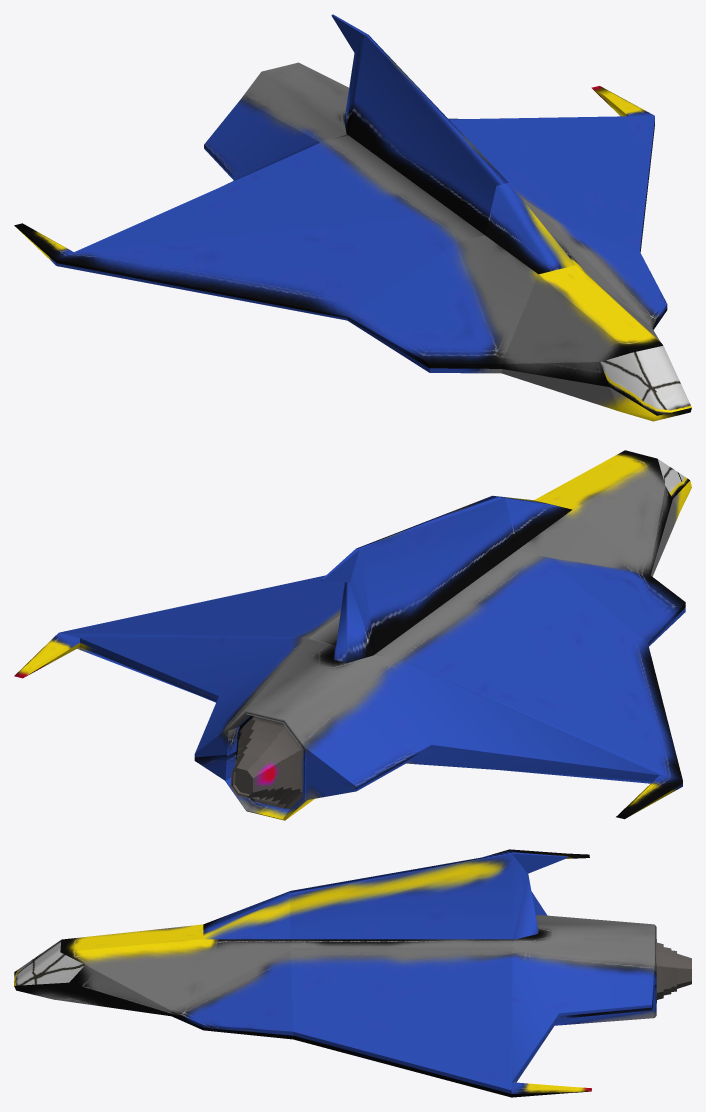
The model's file is SpaceShipModel.fbx.
3 views of the same model, one above another, from view 1: azimuth 30°, elevation 25°; view 2: azimuth 150°, elevation 25°; view 3: azimuth 270°, elevation 25° (orthographic). The views are drawn at different scales.
Parts seen in each view (by area): view 1: pCube1; view 2: pCube1; view 3: pCube1.
Boxes of the visible parts, x1,y1,x2,y2 form: pCube1: [14, 14, 691, 421]; pCube1: [14, 450, 691, 820]; pCube1: [14, 849, 691, 1097].
Size of the model in its own units: 6.48 by 1.99 by 7.79.
1 material, 1 textured.
